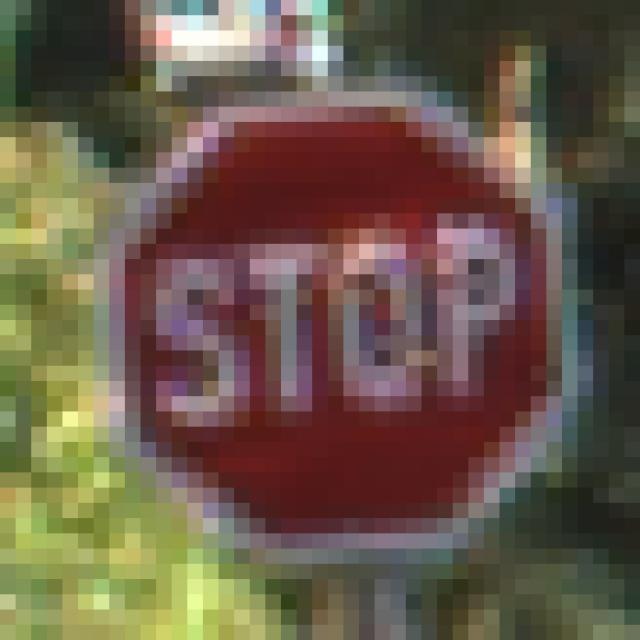STOP: (95, 77, 563, 565)
